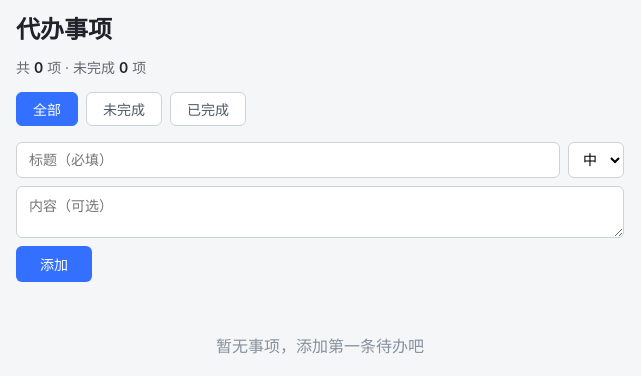
Test: App 集成 › 编辑事项流程：填充旧值→修改→保存
This screenshot has width=641, height=376.
In the field named "标题": (288, 160) [16,142,560,178], type "旧标题"
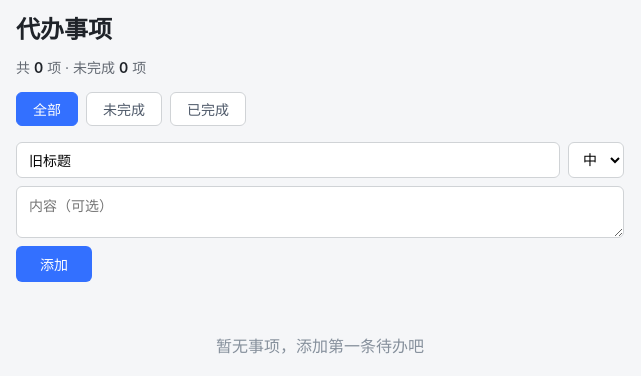
Submit the form, box [16,142,624,282]
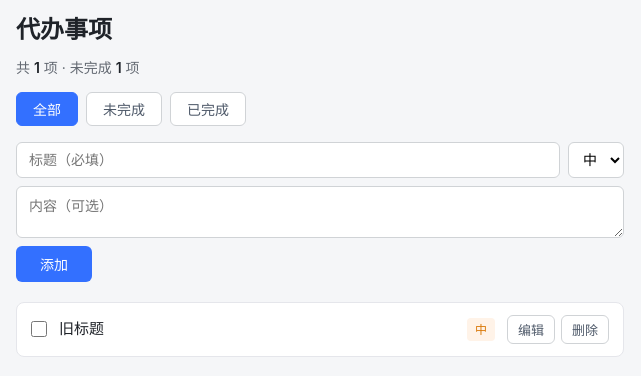
Click the button "编辑": click(531, 329) [507,315,555,344]
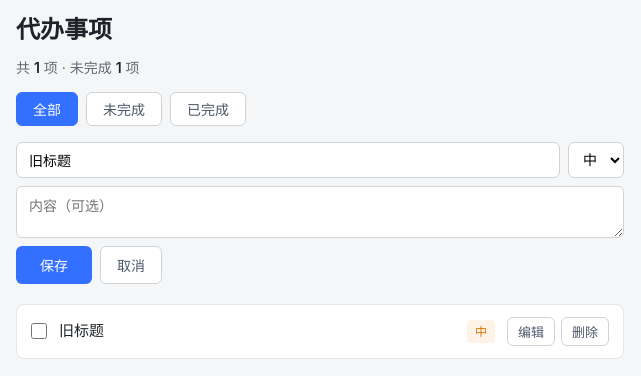
Replace the text in the field named "标题" with "新标题": (288, 160) [16,142,560,178]
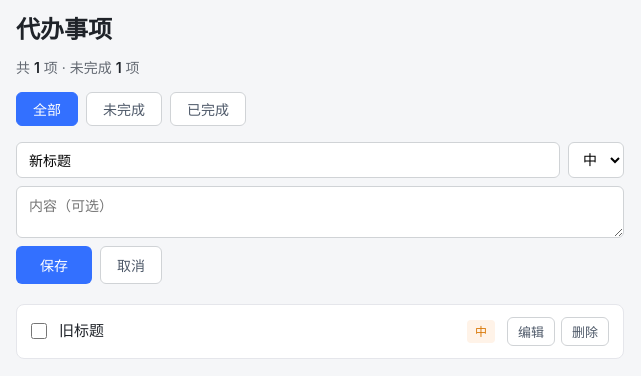
Submit the form, box [16,142,624,284]
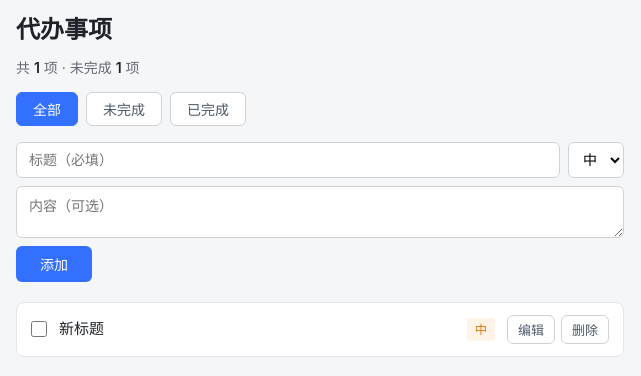
expect the text "新标题" is shown: met, box [59,319,104,338]
expect the text "旧标题" is gone: met
